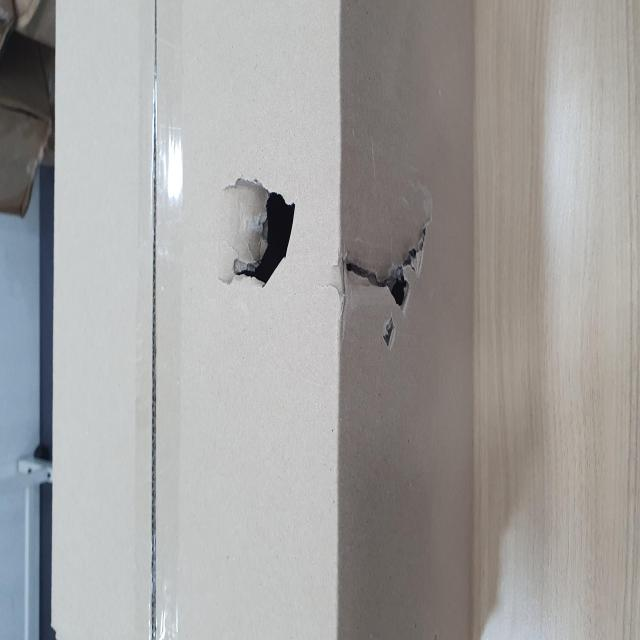damaged: (190, 384, 266, 525), (166, 587, 233, 640)
